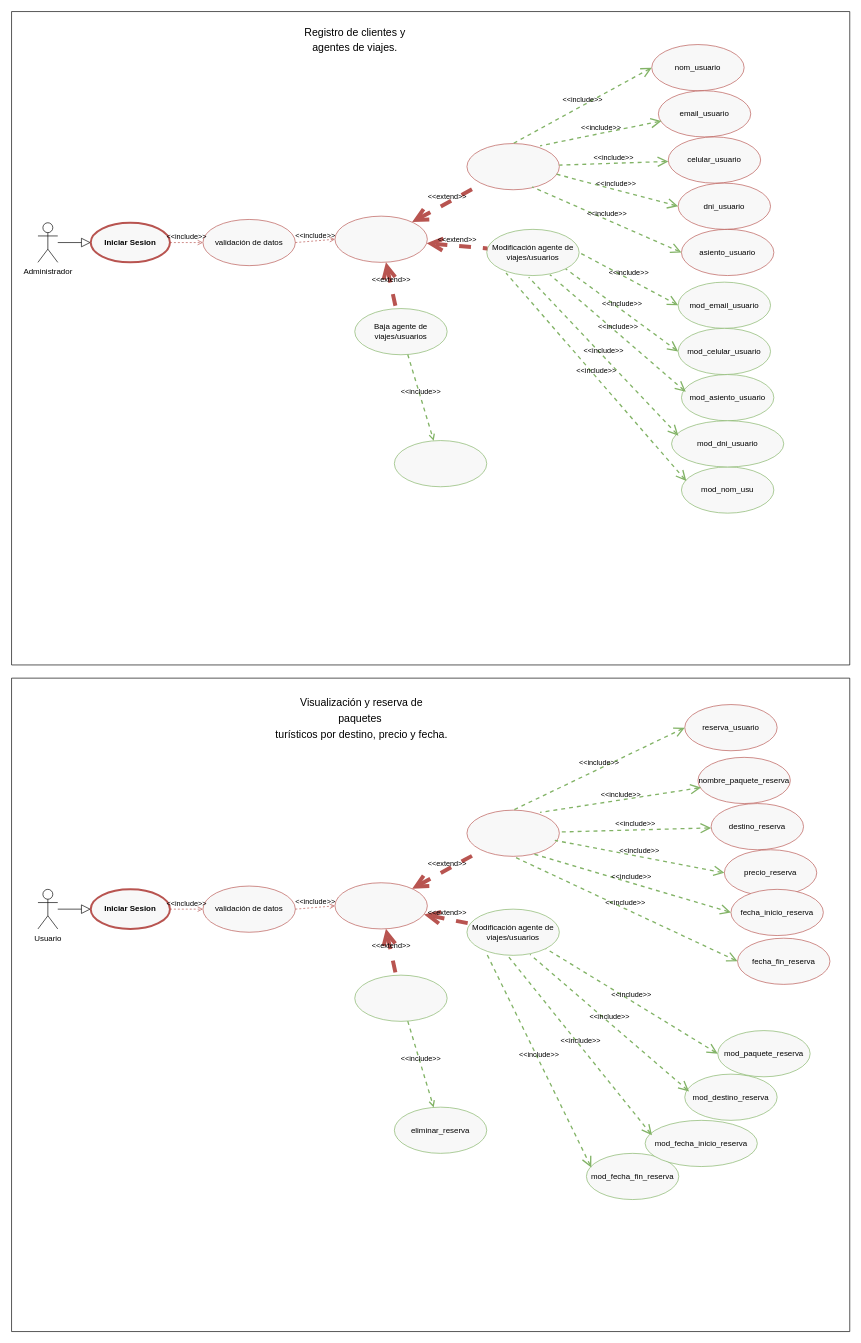
This 861x1343 diagram has some shape labels left out. The centre of each missing label's shape, as x and y in pixels:
"Alta agente de viajes/usuarios" goes at [512,166].
"cancelar reserva" goes at [400,997].
"dashboard del Administrador" goes at [380,238].
"dashboard del usuario" goes at [380,905].
"eliminar_usuario" goes at [440,463].
"Visualizar/crear nueva reserva" goes at [512,832].
